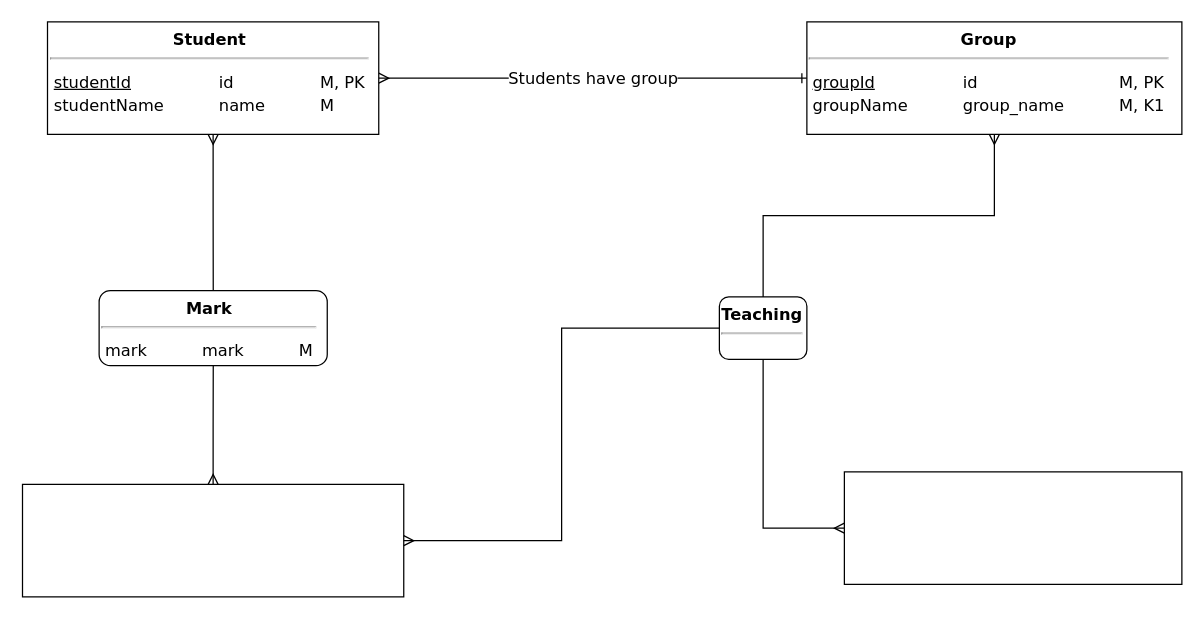
This 1204x619 diagram has some shape labels left out. Each missing label, with the box of its shape:
Course courseId id M, PK courseName courseName M: (21, 483, 404, 597)
Lecturer lecturerId id M, PK lecturerName name M: (843, 471, 1182, 584)
